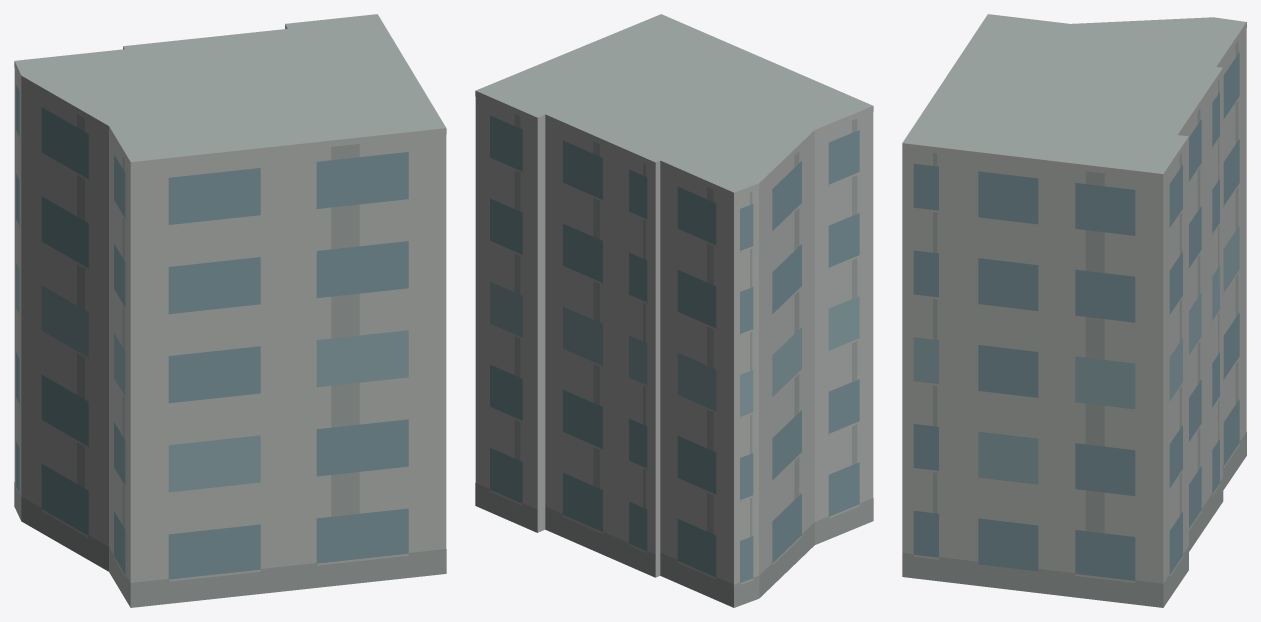
Rendered from survey-upis-32991781.glb.
The picture shows the model from 3 angles, left to right: view 1: azimuth 30°, elevation 25°; view 2: azimuth 150°, elevation 25°; view 3: azimuth 270°, elevation 25°; orthographic projection. The views are drawn at different scales.
Visible parts, largest first — view 1: survey-upis-32991781.tmp; view 2: survey-upis-32991781.tmp; view 3: survey-upis-32991781.tmp.
Part boxes in pixels (x1,y1,x2,y2): survey-upis-32991781.tmp: [14, 14, 446, 607]; survey-upis-32991781.tmp: [475, 14, 873, 607]; survey-upis-32991781.tmp: [902, 14, 1246, 607].
Size of the model in its own units: 13.39 by 16.9 by 12.17.
